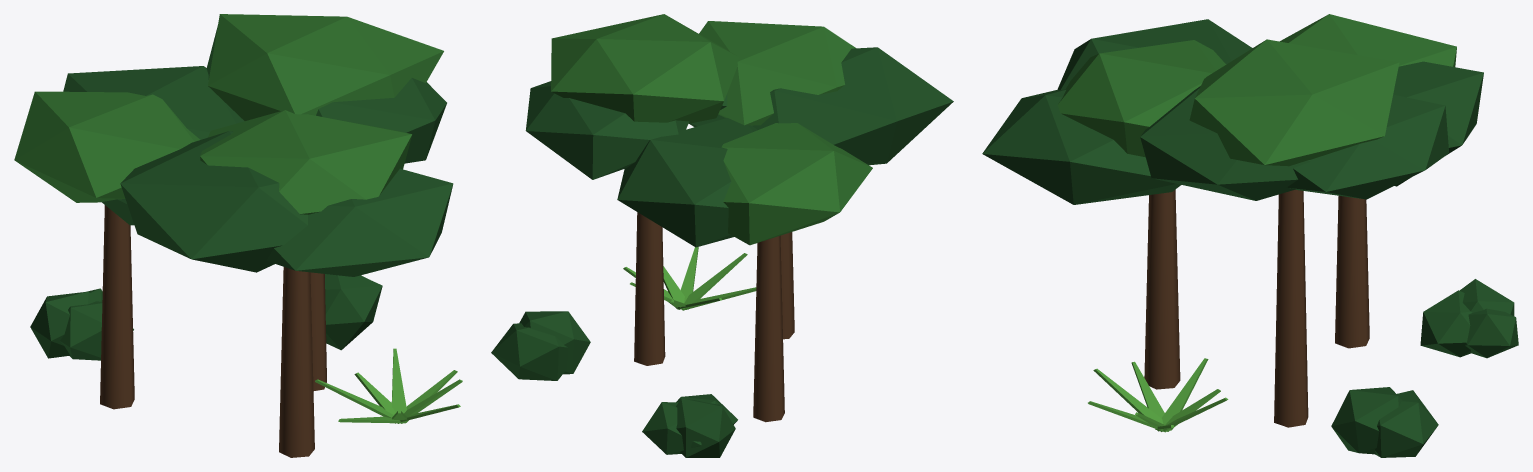
File: sawyer_jungle_thicket_c.glb
The picture shows the model from 3 angles, left to right: view 1: azimuth 30°, elevation 25°; view 2: azimuth 150°, elevation 25°; view 3: azimuth 270°, elevation 25°; orthographic projection. The views are drawn at different scales.
Visible parts, largest first — view 1: broadleaf_0_crown0, broadleaf_2_crown2, broadleaf_1_crown0, broadleaf_2_crown0, broadleaf_2_crown1, broadleaf_2_trunk, broadleaf_1_trunk, broadleaf_1_crown1, broadleaf_0_crown2, jbush_3_leaves1, jbush_4_leaves0, jbush_4_leaves1 (+3 smaller); view 2: broadleaf_0_crown0, broadleaf_1_crown0, broadleaf_2_crown2, broadleaf_1_crown1, broadleaf_2_crown0, broadleaf_0_crown1, broadleaf_1_trunk, broadleaf_0_trunk, jbush_3_leaves0, jbush_4_leaves0, jbush_3_leaves1, jbush_4_leaves2 (+3 smaller); view 3: broadleaf_0_crown0, broadleaf_2_crown1, broadleaf_2_crown0, broadleaf_0_crown1, broadleaf_0_crown2, broadleaf_0_trunk, broadleaf_2_trunk, broadleaf_1_trunk, broadleaf_1_crown0, broadleaf_1_crown1, broadleaf_2_crown2, jbush_3_leaves1 (+7 smaller).
Part boxes in pixels (x1,y1,x2,y2): broadleaf_0_crown0: [208, 14, 443, 120]; broadleaf_2_crown2: [120, 131, 307, 272]; broadleaf_1_crown0: [14, 91, 199, 202]; broadleaf_2_crown0: [200, 110, 412, 214]; broadleaf_2_crown1: [266, 168, 453, 276]; broadleaf_2_trunk: [279, 267, 314, 457]; broadleaf_1_trunk: [100, 205, 134, 409]; broadleaf_1_crown1: [63, 66, 244, 139]; broadleaf_0_crown2: [316, 78, 446, 163]; jbush_3_leaves1: [325, 274, 382, 350]; jbush_4_leaves0: [30, 291, 95, 358]; jbush_4_leaves1: [60, 301, 133, 360]; broadleaf_0_crown0: [551, 14, 739, 123]; broadleaf_1_crown0: [721, 123, 872, 245]; broadleaf_2_crown2: [689, 47, 953, 165]; broadleaf_1_crown1: [617, 118, 757, 247]; broadleaf_2_crown0: [699, 21, 855, 125]; broadleaf_0_crown1: [525, 81, 689, 179]; broadleaf_1_trunk: [753, 235, 784, 422]; broadleaf_0_trunk: [634, 212, 665, 365]; jbush_3_leaves0: [491, 323, 567, 380]; jbush_4_leaves0: [676, 398, 735, 457]; jbush_3_leaves1: [519, 311, 590, 374]; jbush_4_leaves2: [642, 402, 701, 454]; broadleaf_0_crown0: [1189, 39, 1399, 166]; broadleaf_2_crown1: [982, 89, 1181, 204]; broadleaf_2_crown0: [1057, 40, 1226, 157]; broadleaf_0_crown1: [1287, 94, 1448, 199]; broadleaf_0_crown2: [1140, 86, 1310, 200]; broadleaf_0_trunk: [1274, 189, 1308, 427]; broadleaf_2_trunk: [1144, 189, 1180, 389]; broadleaf_1_trunk: [1335, 196, 1369, 348]; broadleaf_1_crown0: [1279, 14, 1456, 66]; broadleaf_1_crown1: [1393, 61, 1483, 186]; broadleaf_2_crown2: [1057, 19, 1252, 90]; jbush_3_leaves1: [1331, 387, 1402, 454].
Bounding box in the file's own units: 3.99 × 3.62 × 4.96.
